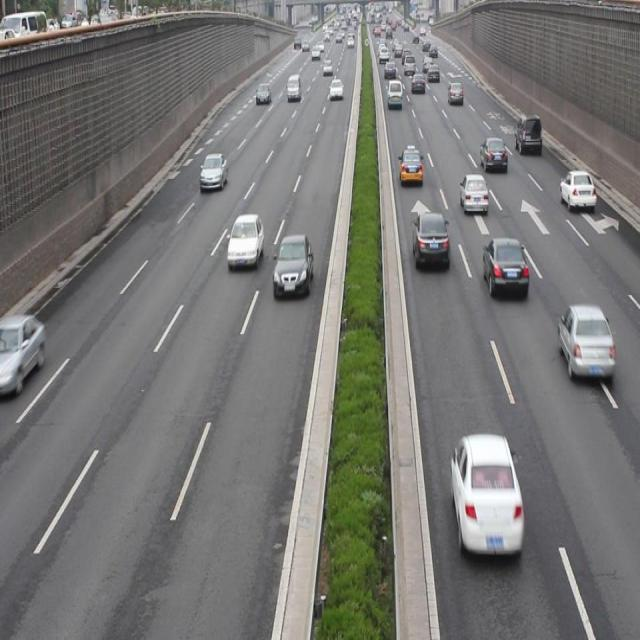car: (449, 430, 522, 551), (556, 301, 612, 380), (1, 312, 47, 401), (482, 236, 528, 297), (272, 233, 312, 298), (412, 210, 448, 271), (227, 211, 264, 265), (558, 168, 595, 210), (199, 150, 228, 191), (514, 114, 542, 155), (460, 173, 488, 212), (478, 136, 506, 173), (398, 145, 422, 186)
